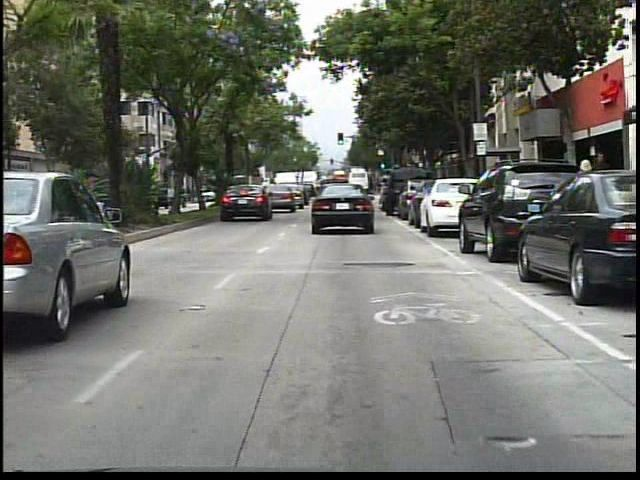person: (589, 151, 615, 225), (569, 154, 597, 221)
